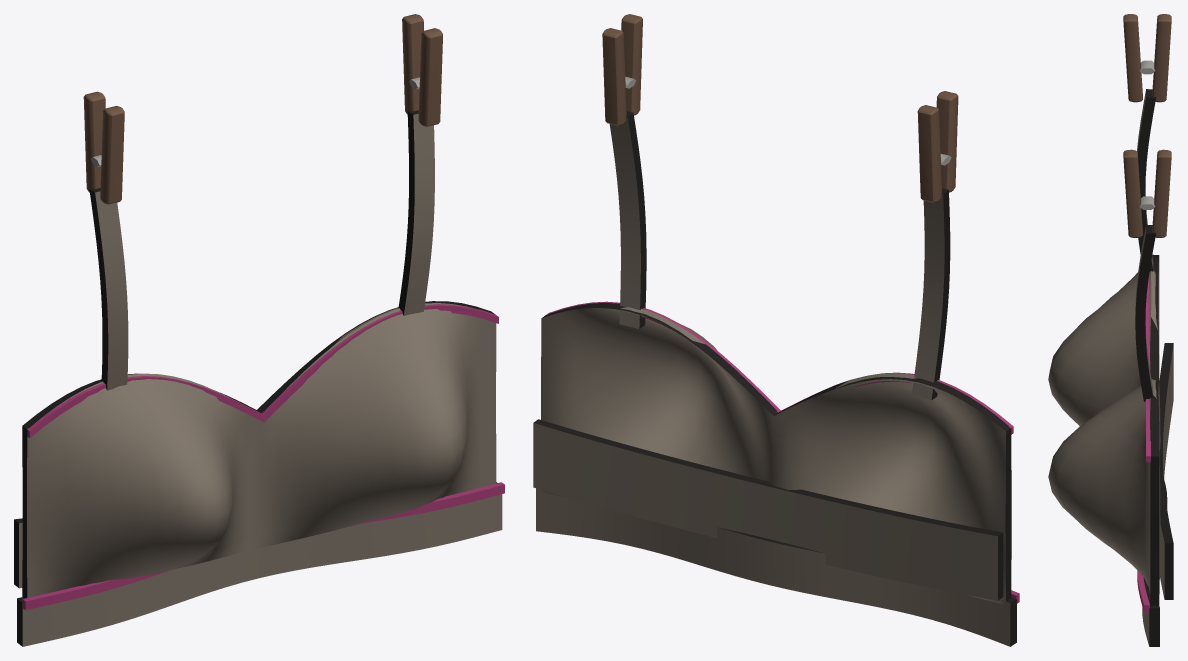
Rendered from bra-line-vibe-8b02e45e20da.glb.
3 views of the same model, side by side, from view 1: azimuth 30°, elevation 25°; view 2: azimuth 150°, elevation 25°; view 3: azimuth 270°, elevation 25° (orthographic). The views are drawn at different scales.
Visible parts, largest first — view 1: cover-cloth, wood, accent-magenta, rubber; view 2: cover-cloth, rubber, wood, accent-magenta; view 3: cover-cloth, rubber, wood, accent-magenta, brushed.
Part boxes in pixels (<box>): cover-cloth: <box>19,113,502,646</box>; wood: <box>83,14,442,204</box>; accent-magenta: <box>22,304,504,610</box>; rubber: <box>14,110,497,646</box>; cover-cloth: <box>533,117,1010,646</box>; rubber: <box>533,111,1016,646</box>; wood: <box>602,14,958,202</box>; accent-magenta: <box>546,301,1019,603</box>; cover-cloth: <box>1048,91,1173,645</box>; rubber: <box>1135,89,1173,646</box>; wood: <box>1123,14,1171,237</box>; accent-magenta: <box>1137,275,1150,612</box>; brushed: <box>1139,60,1155,209</box>.
Size of the model in its own units: 0.286 by 0.3 by 0.074.
